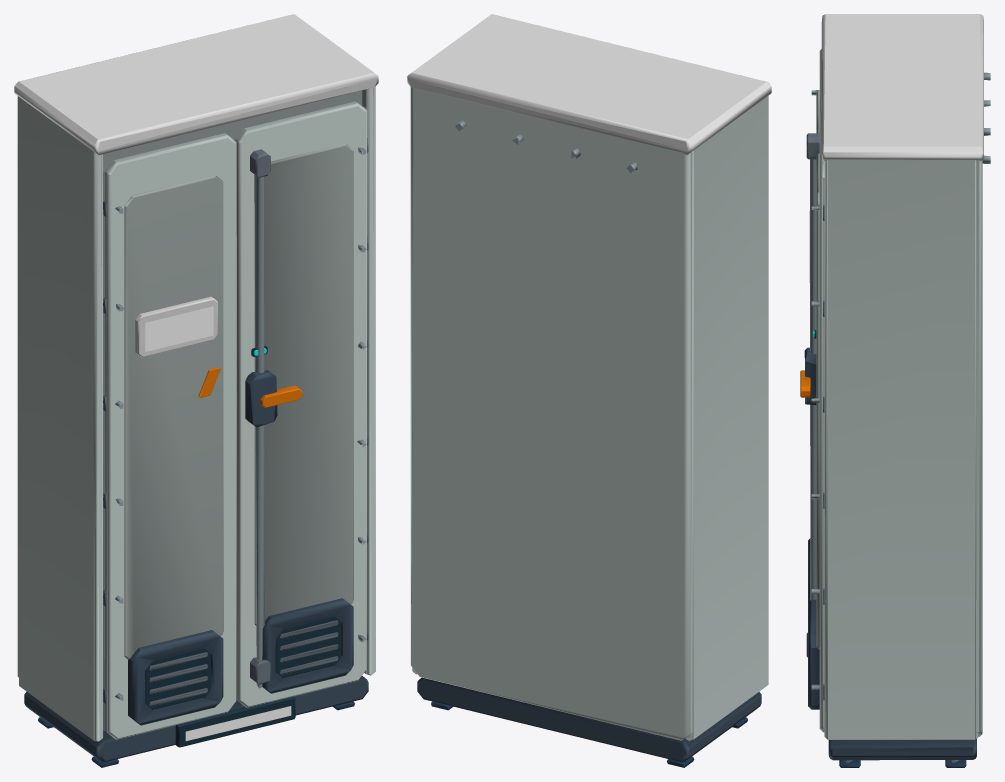
File: servante-outils.glb
The picture shows the model from 3 angles, left to right: view 1: azimuth 30°, elevation 25°; view 2: azimuth 150°, elevation 25°; view 3: azimuth 270°, elevation 25°; orthographic projection.
Visible parts, largest first — view 1: corps__gris_clair2, door_left__gris_clair4, door_right__gris_clair4, corps__gris_clair3, door_left__gris_clair2, door_right__gris_clair2, door_right__bleu_nuit, corps__bleu_nuit, door_right__gris_clair, door_left__bleu_nuit, door_right__bleu_fonce, door_right__bleu_nuit3 (+7 smaller); view 2: corps__gris_clair2, corps__gris_clair3, corps__bleu_nuit; view 3: corps__gris_clair2, corps__gris_clair3, door_right__gris_clair2, corps__bleu_nuit, door_right__gris_clair, door_right__gris_clair4, door_right__bleu_nuit, door_right__bleu_fonce.
Part boxes in pixels (box(x1,y1,x2,y2)): corps__gris_clair2: box(17, 87, 375, 741); door_left__gris_clair4: box(124, 175, 223, 659); door_right__gris_clair4: box(254, 143, 353, 626); corps__gris_clair3: box(14, 14, 378, 154); door_left__gris_clair2: box(104, 133, 236, 739); door_right__gris_clair2: box(235, 101, 367, 707); door_right__bleu_nuit: box(245, 370, 353, 693); corps__bleu_nuit: box(24, 676, 368, 762); door_right__gris_clair: box(254, 106, 366, 688); door_left__bleu_nuit: box(128, 630, 223, 725); door_right__bleu_fonce: box(250, 138, 368, 684); door_right__bleu_nuit3: box(251, 345, 341, 677); corps__gris_clair2: box(410, 87, 768, 740); corps__gris_clair3: box(407, 14, 771, 154); corps__bleu_nuit: box(417, 677, 761, 762); corps__gris_clair2: box(824, 160, 982, 739); corps__gris_clair3: box(821, 14, 983, 161); door_right__gris_clair2: box(819, 112, 824, 732); corps__bleu_nuit: box(828, 739, 976, 760); door_right__gris_clair: box(810, 159, 819, 689); door_right__gris_clair4: box(816, 153, 819, 649); door_right__bleu_nuit: box(804, 347, 819, 709); door_right__bleu_fonce: box(806, 133, 824, 700).
Bounding box in the file's own units: 0.4928 × 1.05 × 0.2887.
